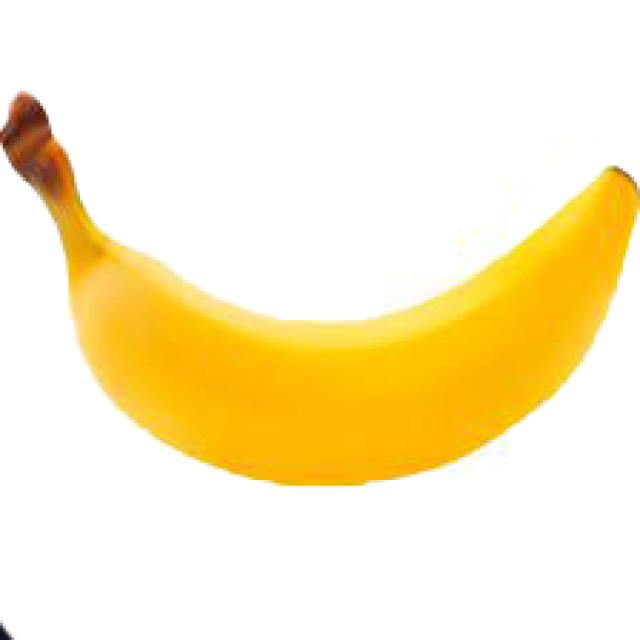fresh-banana: (0, 86, 637, 486)
